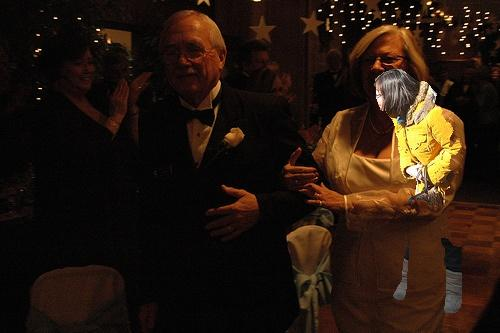tampered: (375, 70, 462, 313)
